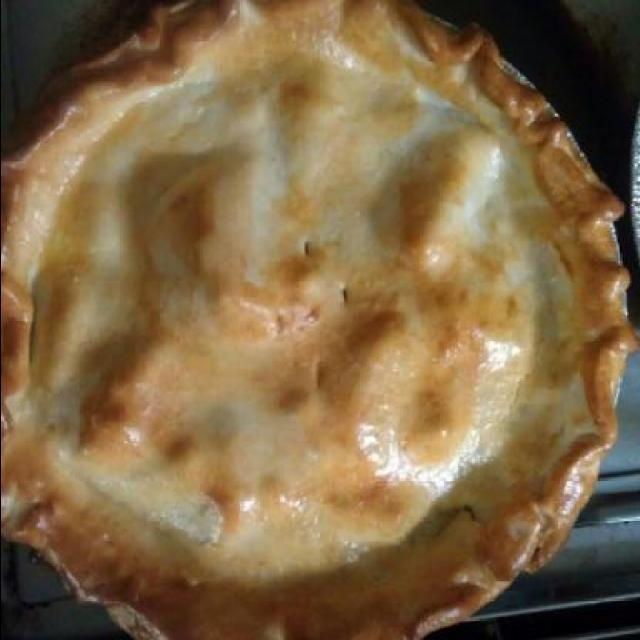Apple: (19, 14, 618, 637)
